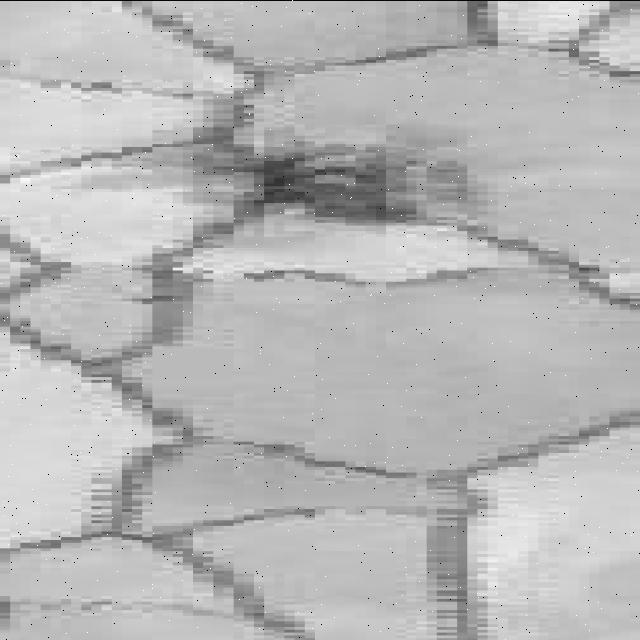good_void: (83, 127, 505, 229)
